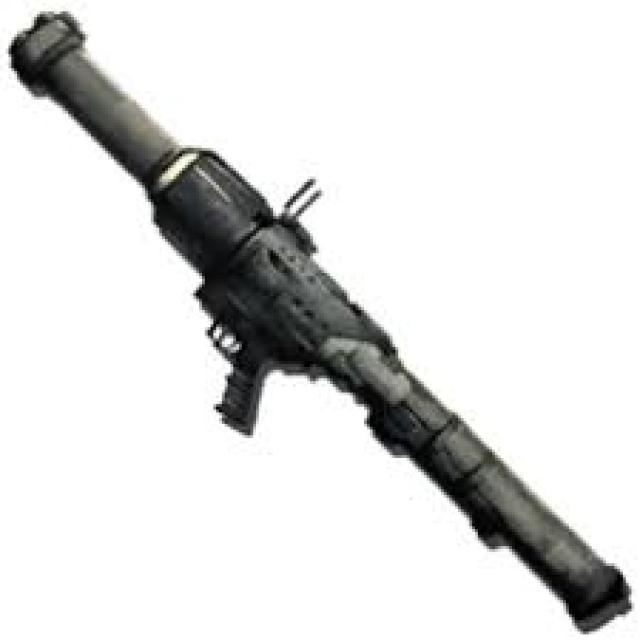bazooka: (4, 1, 640, 640)
